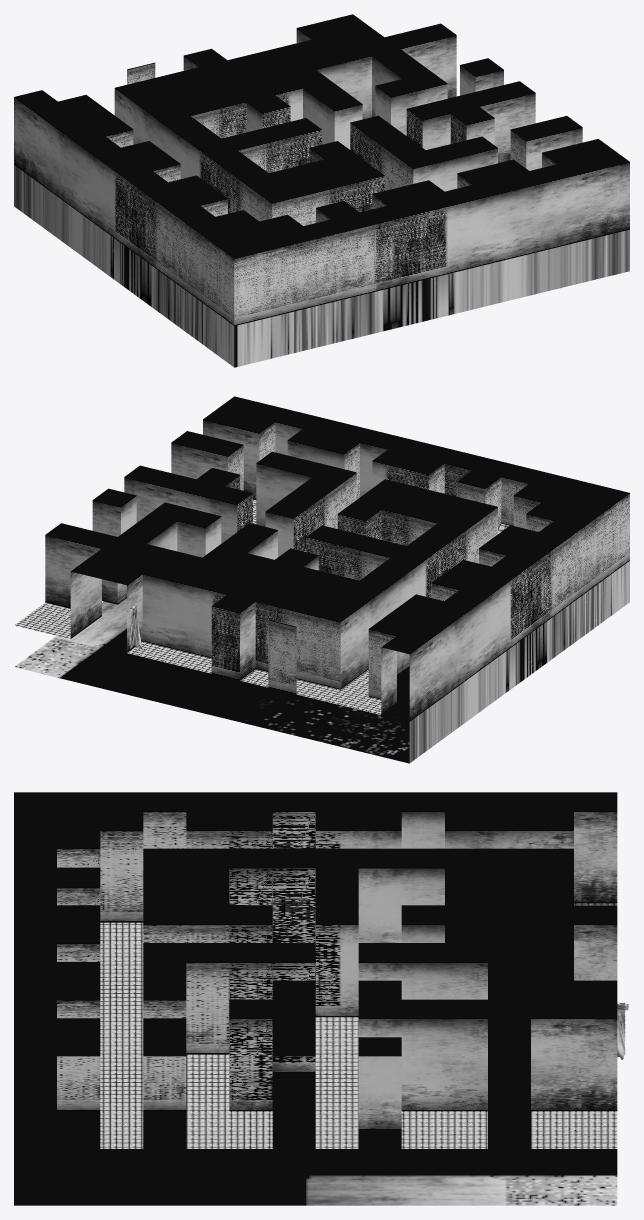
File: hopital2 .fbx
The picture shows the model from 3 angles, top to bottom: view 1: azimuth 30°, elevation 25°; view 2: azimuth 150°, elevation 25°; view 3: azimuth 270°, elevation 25°; orthographic projection. The views are drawn at different scales.
Visible parts, largest first — view 1: Cube; view 2: Cube; view 3: Cube.
Part boxes in pixels (x1,y1,x2,y2): Cube: (14, 14, 629, 367); Cube: (14, 396, 629, 763); Cube: (14, 792, 628, 1205).
Bounding box in the file's own units: 1113 × 294 × 1097.
